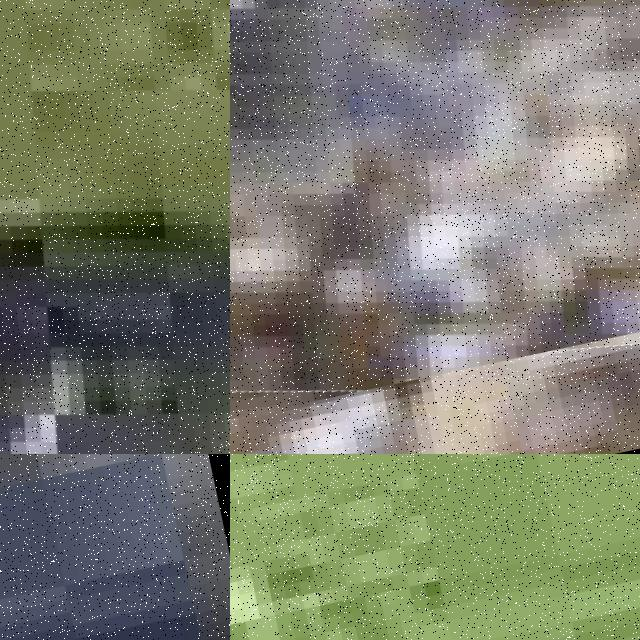drone: (230, 0, 640, 445), (0, 0, 230, 454)
